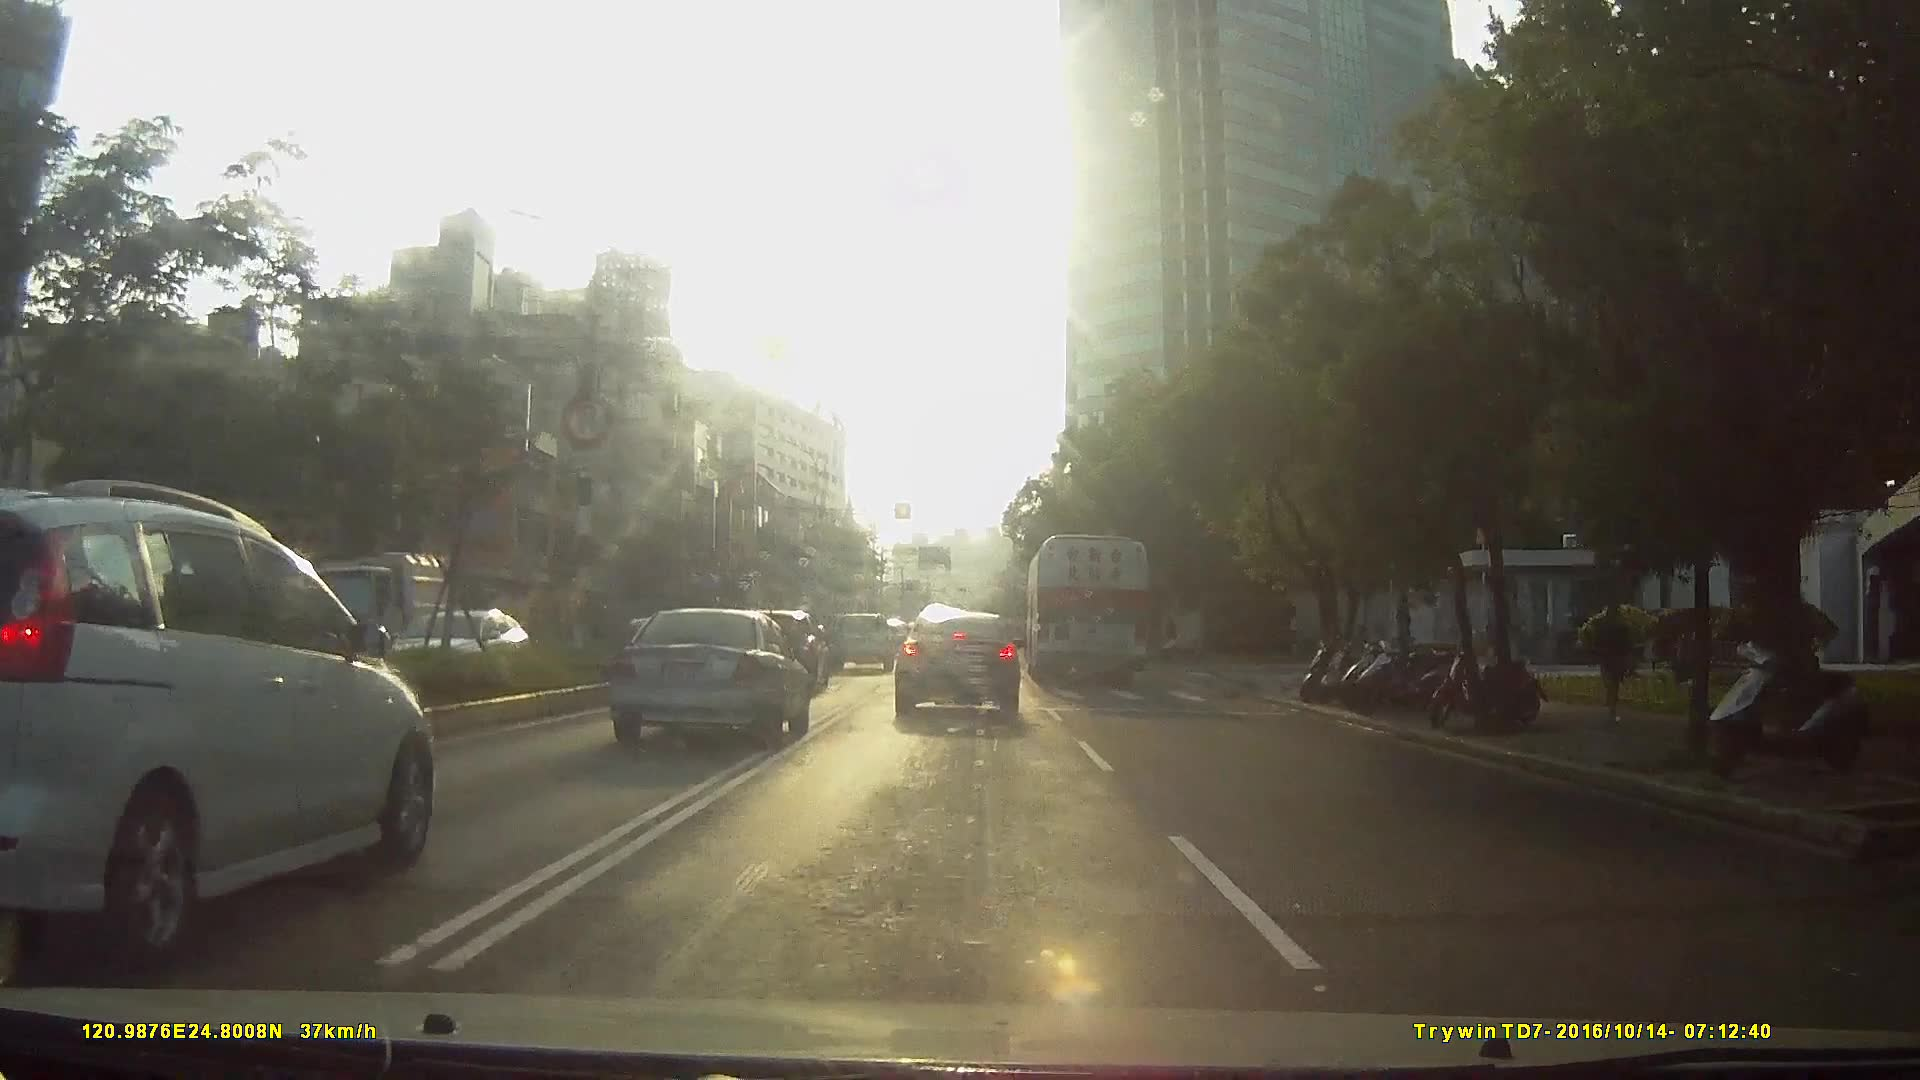pedestrian: (1591, 603, 1642, 719)
vehicle: (1, 471, 451, 971), (250, 556, 684, 868), (597, 601, 806, 746), (1022, 529, 1149, 688), (278, 547, 434, 660), (891, 601, 1021, 722), (397, 605, 534, 694), (825, 608, 893, 672)
